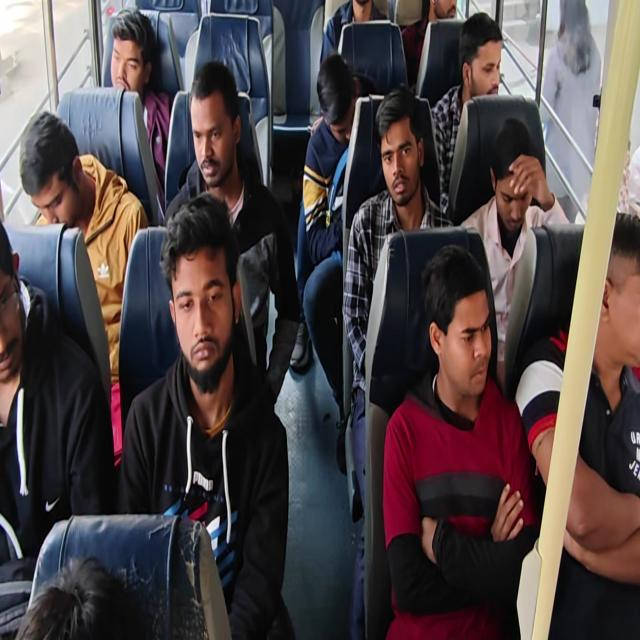person: (163, 191, 240, 397), (18, 562, 138, 640), (14, 105, 86, 234), (424, 240, 486, 389), (189, 59, 247, 193), (483, 120, 543, 237), (373, 80, 425, 209), (605, 187, 640, 373), (456, 4, 507, 107), (0, 210, 26, 398), (314, 54, 360, 147), (107, 13, 153, 100), (428, 0, 463, 21), (350, 2, 372, 24)
